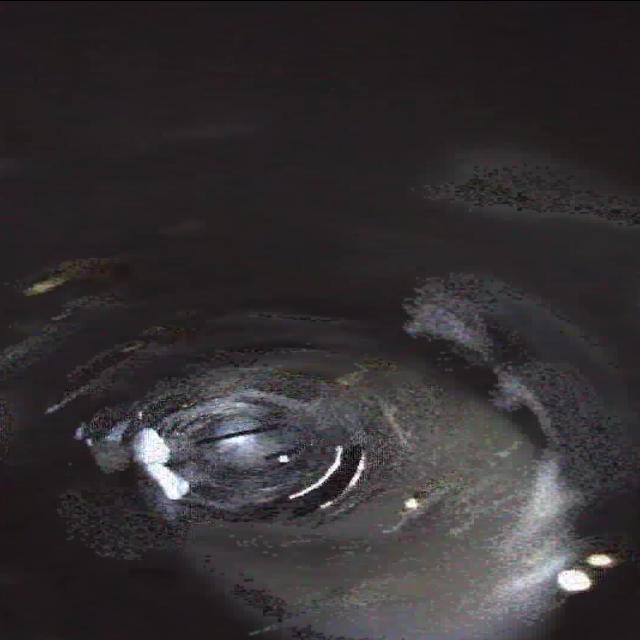crack: (195, 368, 286, 404), (212, 479, 273, 512)
hole: (286, 443, 374, 521)
